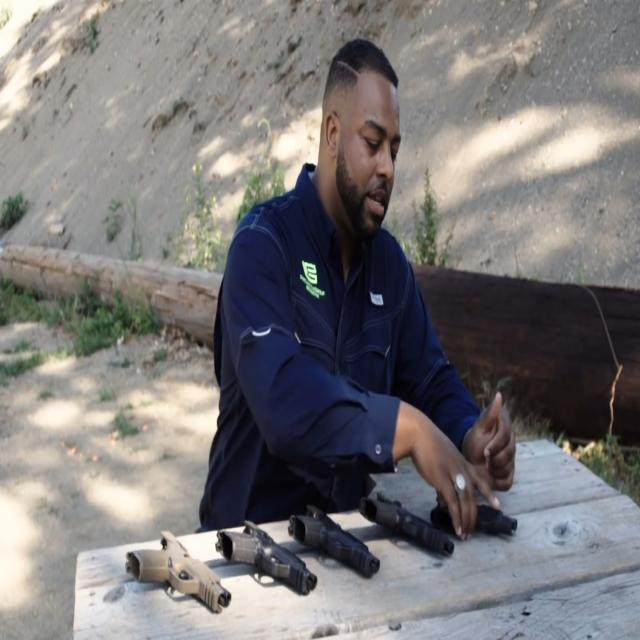handgun: (355, 485, 471, 569), (122, 530, 240, 610), (218, 522, 327, 598), (290, 502, 390, 580), (422, 485, 527, 539)
